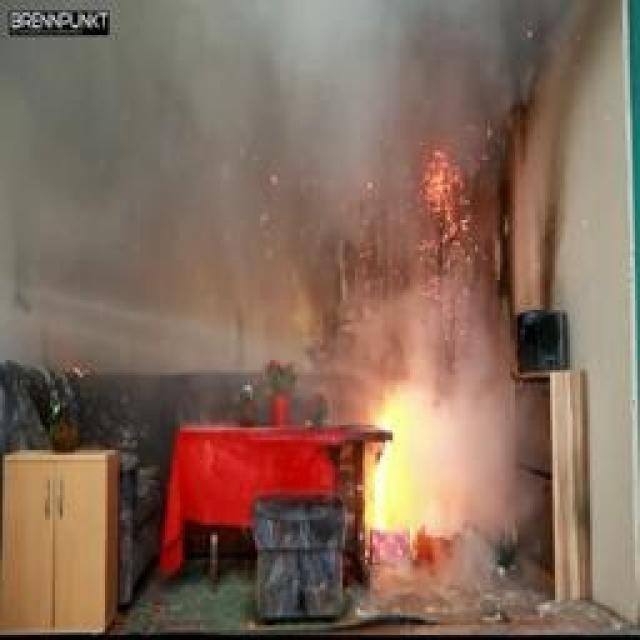fire: (335, 379, 457, 541)
smoke: (188, 21, 490, 361)
